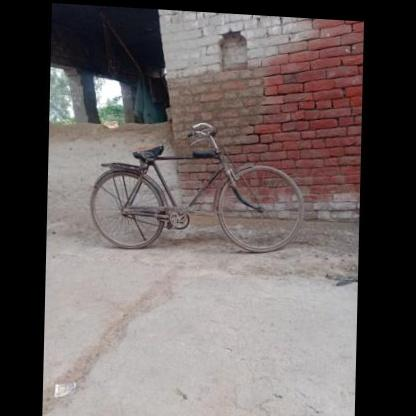Bicycle: (84, 112, 310, 255)
